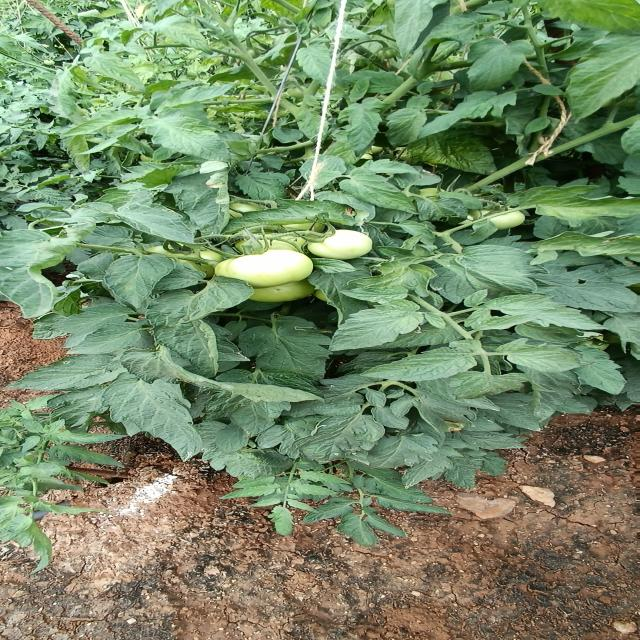Healthy Leaf: (100, 381, 214, 463), (316, 304, 424, 356), (133, 116, 244, 162), (90, 252, 176, 311), (96, 199, 198, 245), (350, 342, 478, 378), (226, 376, 320, 408), (288, 42, 350, 89), (514, 341, 584, 371)
